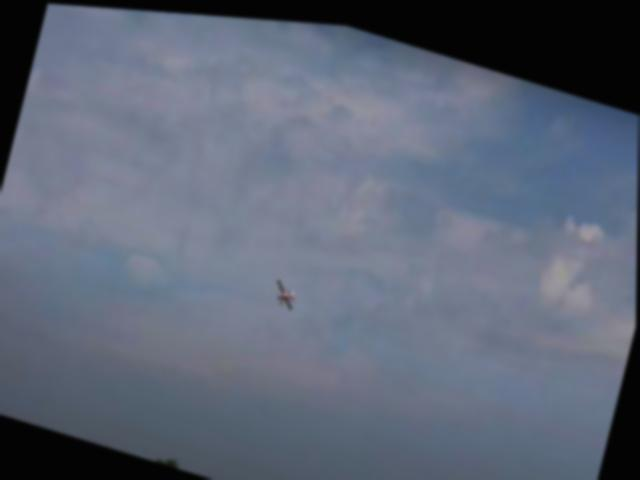uav: (268, 269, 302, 311)
